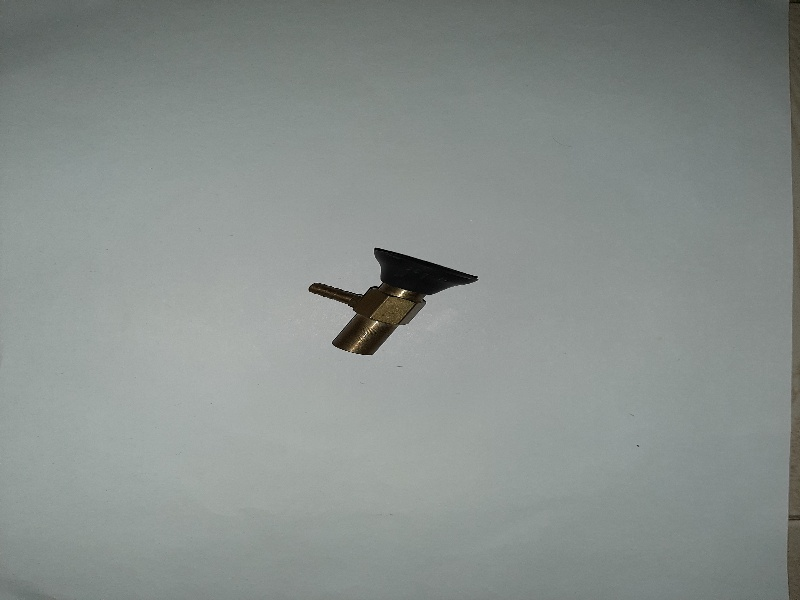Joint Hold: (303, 238, 483, 361)
